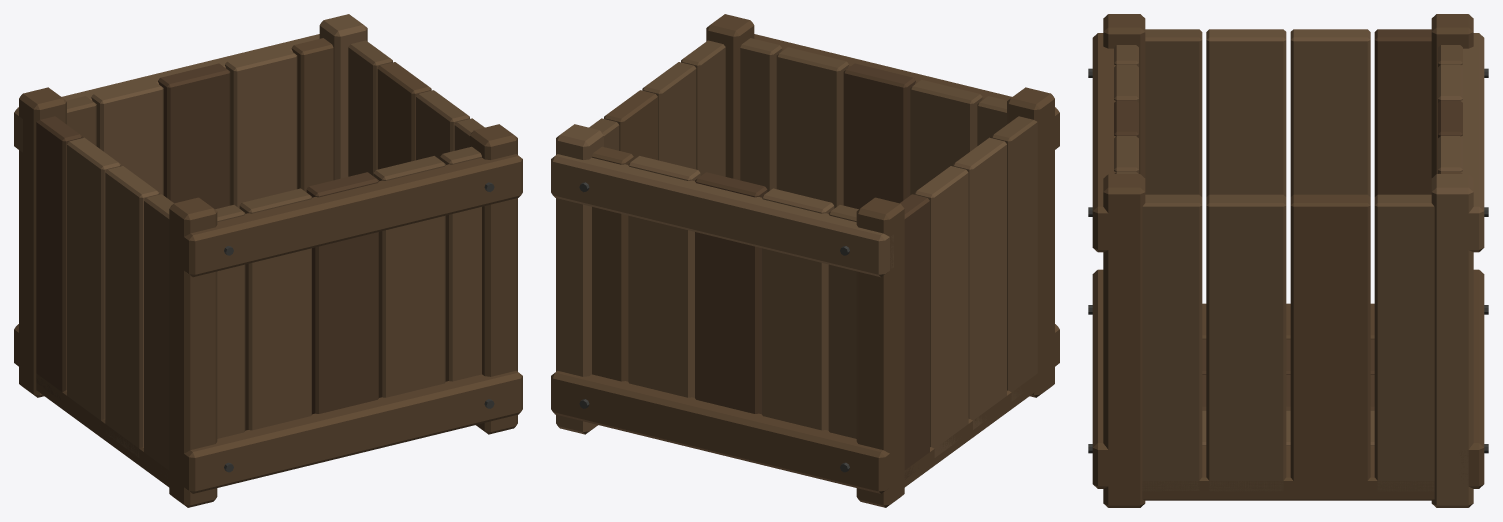
Rendered from crate_open.glb.
3 renders of one model, left to right at view 1: azimuth 30°, elevation 25°; view 2: azimuth 150°, elevation 25°; view 3: azimuth 270°, elevation 25°, orthographic. The views are drawn at different scales.
Parts seen in each view (by area): view 1: crate_open_Geometry; view 2: crate_open_Geometry; view 3: crate_open_Geometry.
Boxes of the visible parts, x1=… form: crate_open_Geometry: x1=14, y1=14, x2=522, y2=507; crate_open_Geometry: x1=551, y1=14, x2=1059, y2=507; crate_open_Geometry: x1=1088, y1=14, x2=1488, y2=507.
Size of the model in its own units: 1 by 0.84 by 0.952.
